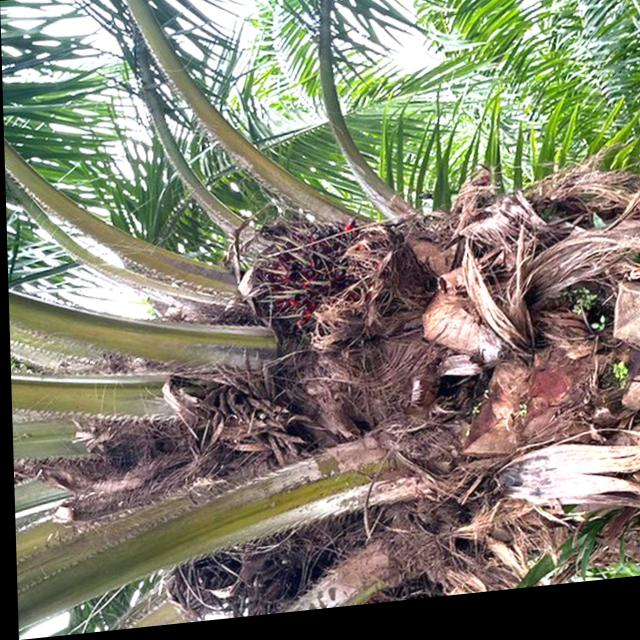ripe: (246, 216, 357, 345)
